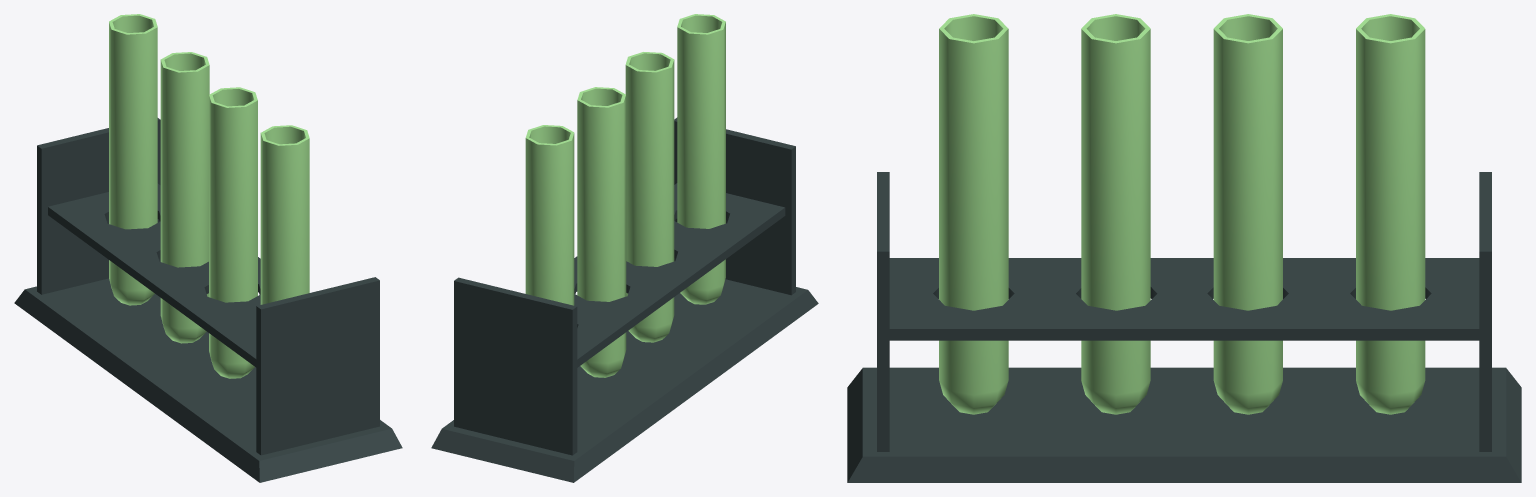
File: laba_props_2.fbx
3 views of the same model, side by side, from view 1: azimuth 30°, elevation 25°; view 2: azimuth 150°, elevation 25°; view 3: azimuth 270°, elevation 25° (orthographic). The views are drawn at different scales.
Visible parts, largest first — view 1: laba_props_2.005, laba_props_2; view 2: laba_props_2.005, laba_props_2; view 3: laba_props_2.005, laba_props_2.
Boxes of the visible parts, box(x1,y1,x2,y2) form: laba_props_2.005: box(14, 118, 402, 482); laba_props_2: box(109, 14, 309, 378); laba_props_2.005: box(431, 117, 818, 482); laba_props_2: box(525, 14, 725, 377); laba_props_2.005: box(847, 172, 1521, 482); laba_props_2: box(939, 14, 1425, 414).
Bounding box in the file's own units: 4.75 × 9.41 × 14.14.
